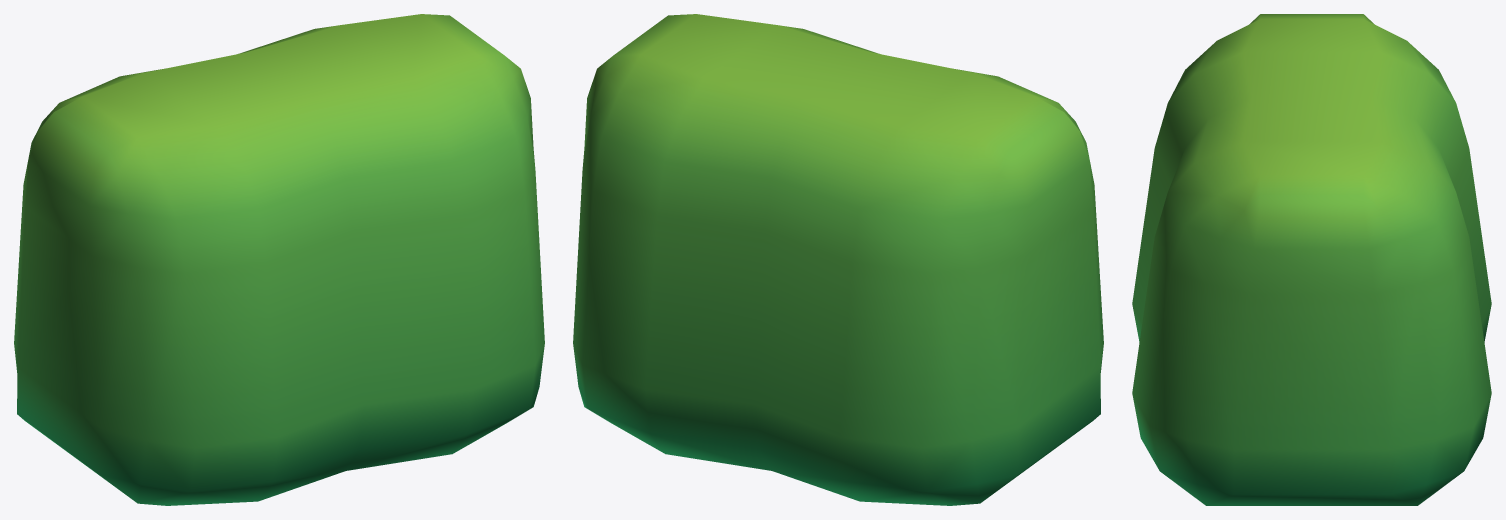
File: Hedge Straight.glb
3 renders of one model, left to right at view 1: azimuth 30°, elevation 25°; view 2: azimuth 150°, elevation 25°; view 3: azimuth 270°, elevation 25°, orthographic. The views are drawn at different scales.
Parts seen in each view (by area): view 1: hedge_straight; view 2: hedge_straight; view 3: hedge_straight.
Part boxes in pixels (left/top/right/bottom): hedge_straight: left=14, top=14, right=544, bottom=505; hedge_straight: left=573, top=14, right=1103, bottom=505; hedge_straight: left=1132, top=14, right=1491, bottom=505.
Size of the model in its own units: 2 by 1.5 by 1.5.
1 material, 1 textured.
